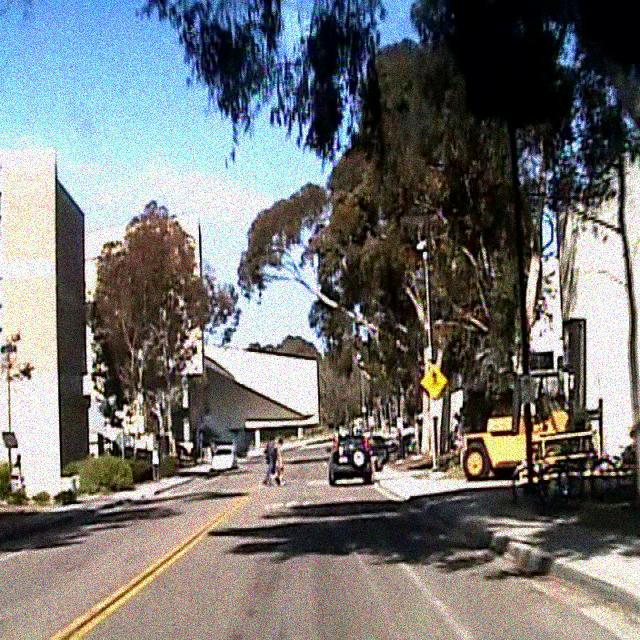pedestrianCrossing: (420, 363, 447, 400)
